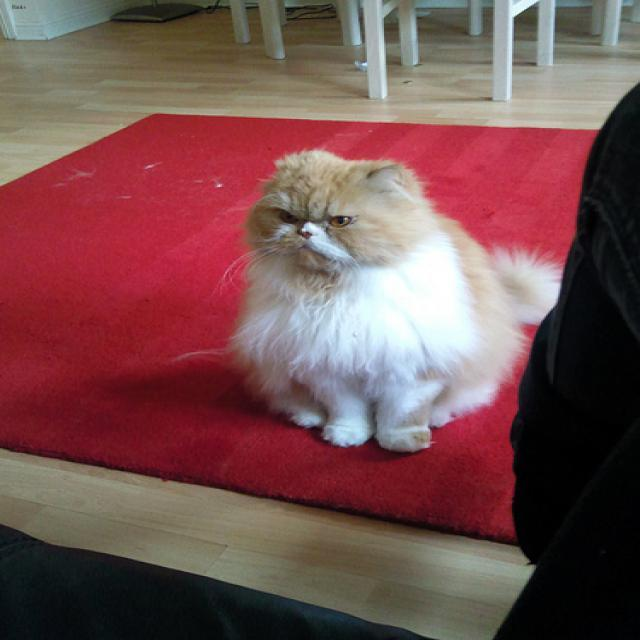Persian: (258, 150, 406, 264)
